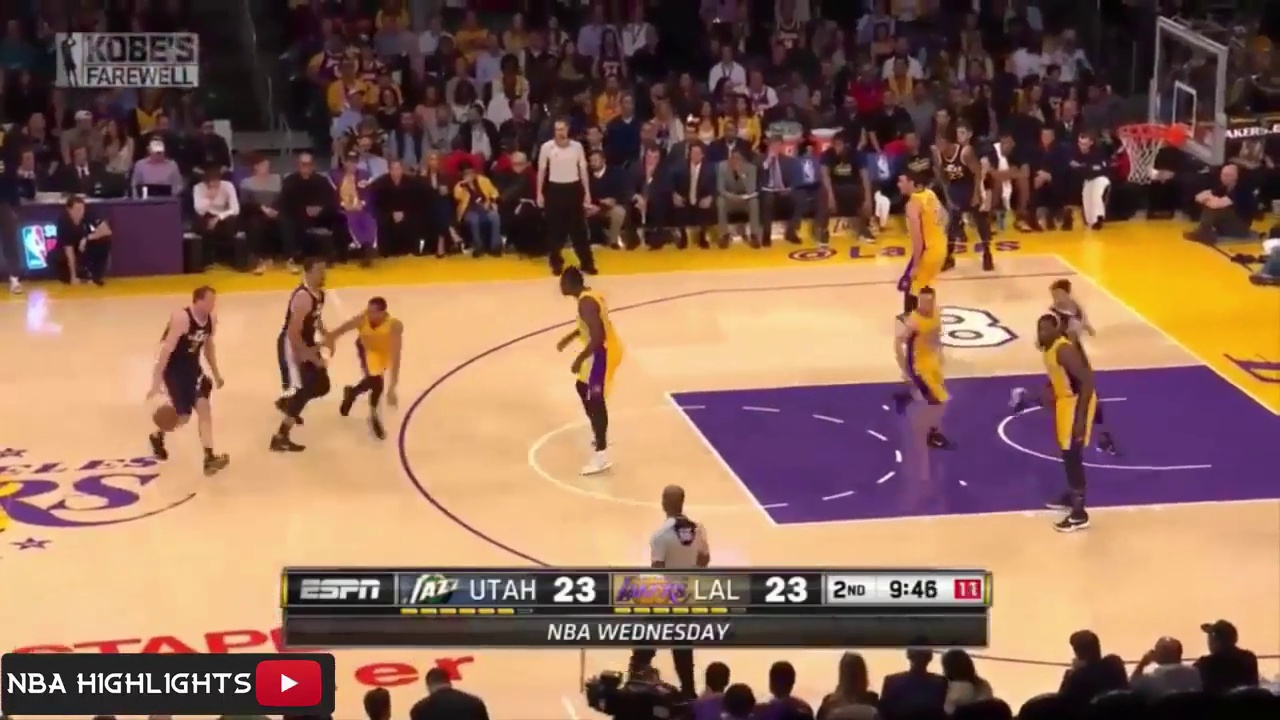jazz: (273, 250, 346, 453), (157, 285, 228, 484), (1041, 277, 1108, 440), (935, 126, 997, 270)
lakers: (554, 263, 629, 477), (1033, 322, 1096, 532), (341, 291, 408, 439), (901, 288, 958, 441), (887, 165, 949, 296)
